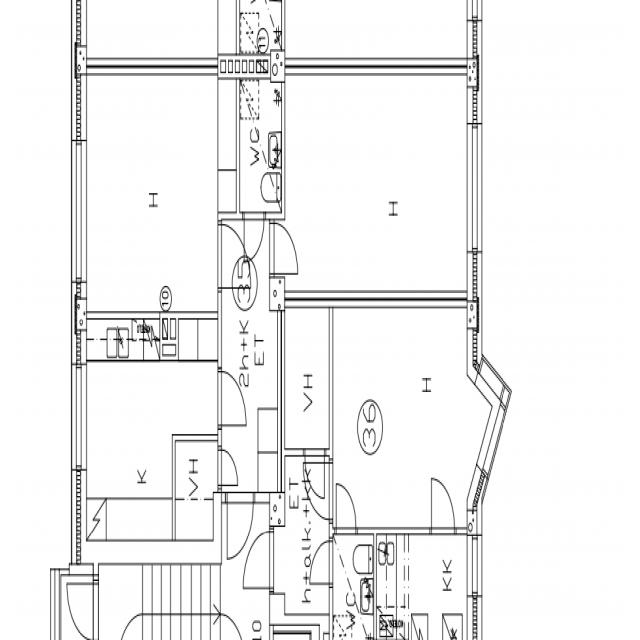door: (217, 226, 249, 286), (228, 491, 252, 558), (217, 371, 245, 424), (270, 224, 296, 273), (244, 212, 264, 264), (216, 450, 236, 484)
